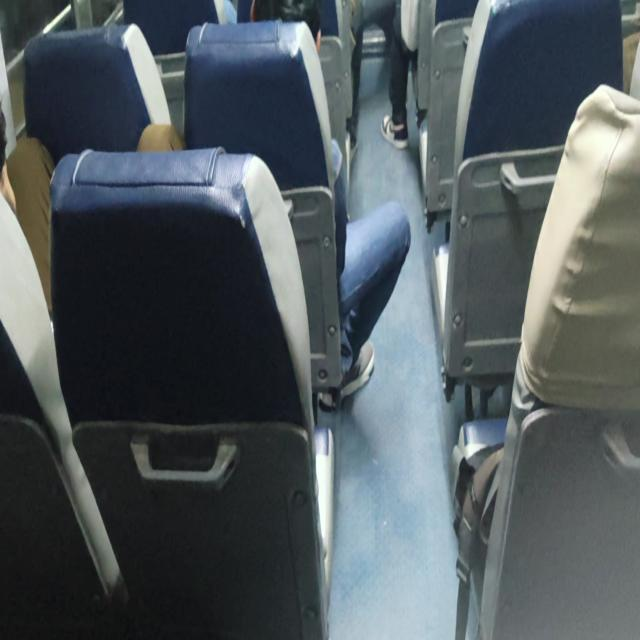person: (136, 2, 411, 404), (0, 103, 56, 319), (381, 0, 428, 151)
